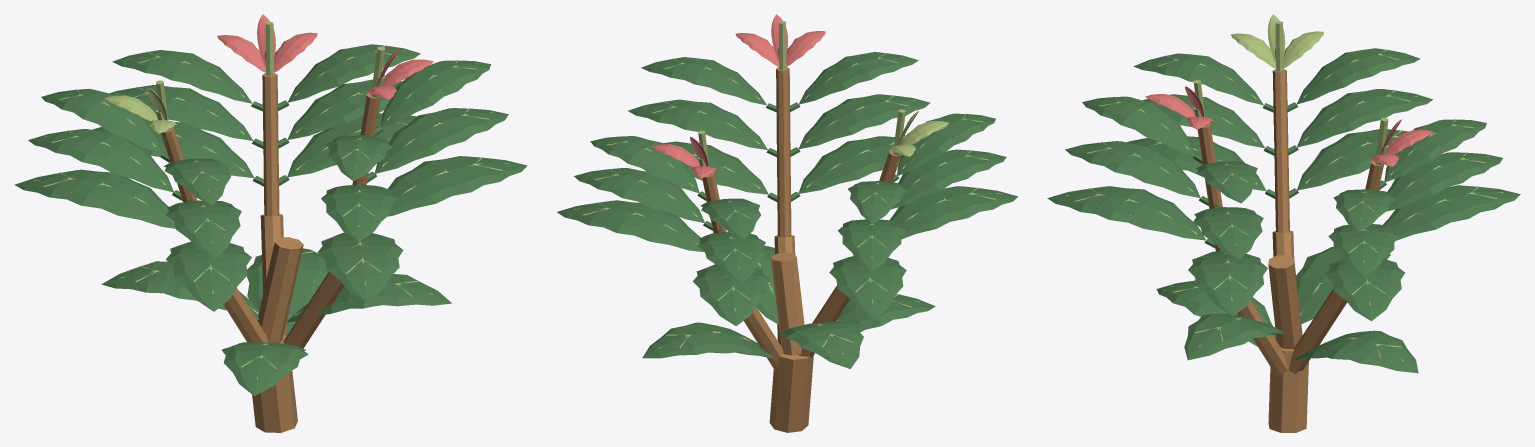
The model's file is SM_OrientalBeauty.fbx.
The picture shows the model from 3 angles, left to right: view 1: azimuth 30°, elevation 25°; view 2: azimuth 150°, elevation 25°; view 3: azimuth 270°, elevation 25°; orthographic projection. The views are drawn at different scales.
Visible parts, largest first — view 1: FoliageRoot, ReadyAccents; view 2: FoliageRoot, ReadyAccents; view 3: FoliageRoot, ReadyAccents.
Boxes of the visible parts, left/top/right/bottom form: FoliageRoot: left=14, top=44, right=527, bottom=432; ReadyAccents: left=104, top=14, right=433, bottom=133; FoliageRoot: left=557, top=47, right=1018, bottom=432; ReadyAccents: left=651, top=14, right=949, bottom=178; FoliageRoot: left=1047, top=48, right=1520, bottom=432; ReadyAccents: left=1145, top=14, right=1433, bottom=166.
Size of the model in its own units: 0.8227 by 0.78 by 0.9.
